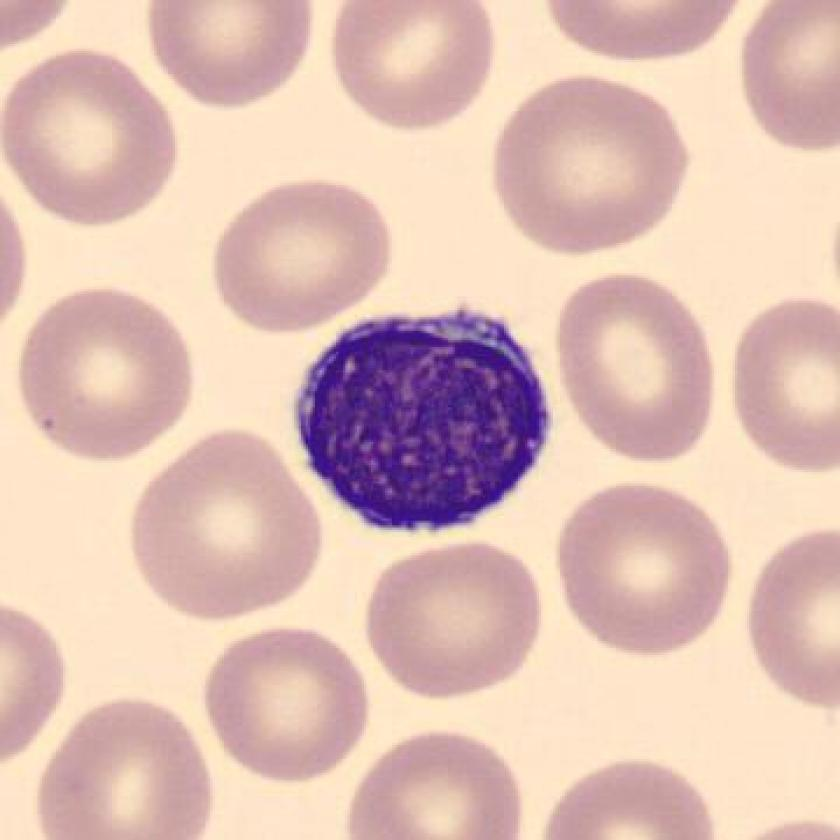lymphocyte: (288, 293, 559, 561)
